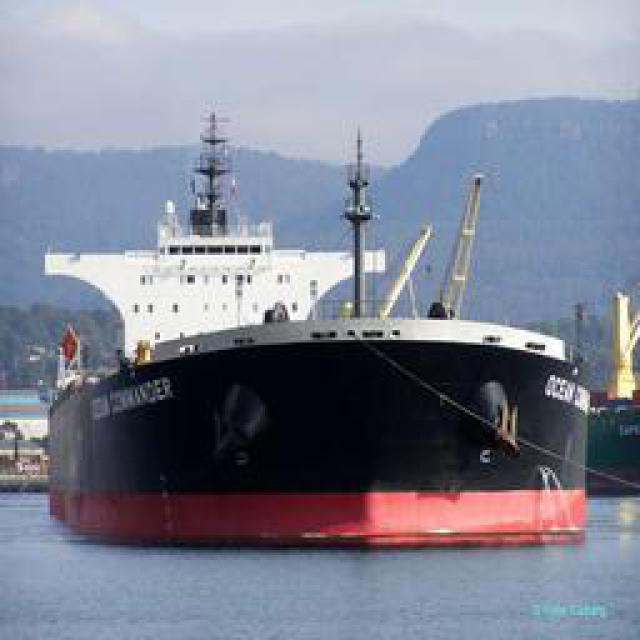Ship: (41, 155, 616, 543)
